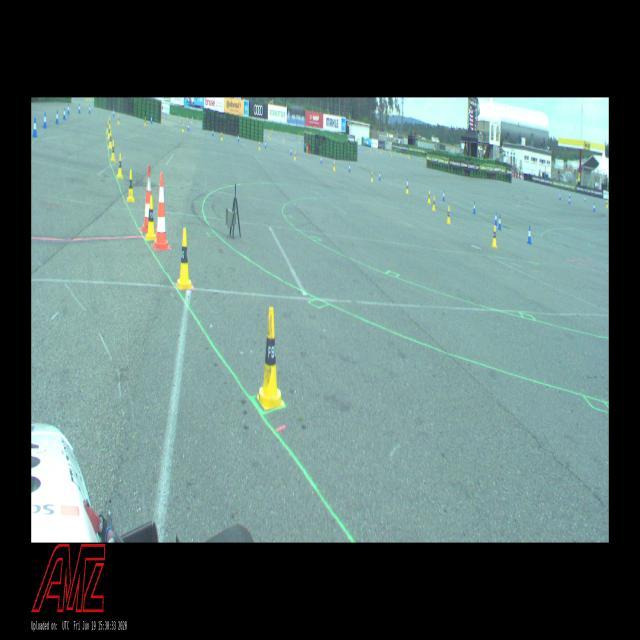blue_cone: (527, 226, 532, 244), (33, 118, 37, 137), (43, 112, 47, 127), (472, 201, 476, 214), (498, 214, 501, 230), (56, 111, 59, 123), (494, 212, 497, 224), (63, 107, 65, 119), (442, 190, 444, 201), (68, 104, 70, 114), (78, 104, 80, 113), (88, 105, 90, 114), (406, 179, 408, 188), (593, 203, 595, 211), (212, 128, 214, 136), (568, 196, 570, 204), (559, 192, 561, 200), (290, 148, 292, 155), (320, 156, 322, 163), (113, 109, 115, 116), (569, 192, 571, 198), (349, 163, 350, 172), (379, 172, 380, 180), (188, 123, 189, 130), (265, 141, 266, 148), (151, 116, 152, 123), (238, 134, 239, 141), (585, 196, 586, 202), (181, 117, 182, 121), (194, 119, 195, 122), (193, 117, 193, 120)
large_orange_cone: (154, 172, 170, 250), (142, 166, 155, 232), (512, 169, 514, 177), (520, 171, 522, 179), (518, 171, 519, 179)
orange_cone: (188, 118, 188, 122)
yellow_cone: (257, 307, 284, 410), (176, 228, 193, 290), (146, 196, 156, 240), (127, 170, 134, 202), (117, 153, 123, 177), (492, 226, 497, 247), (111, 140, 115, 160), (432, 196, 436, 210), (447, 206, 450, 223), (109, 132, 112, 148), (107, 125, 110, 138), (428, 190, 430, 202), (106, 121, 108, 133), (108, 117, 110, 129), (371, 171, 373, 181), (406, 183, 408, 193), (118, 115, 120, 124), (144, 117, 146, 126), (221, 132, 223, 140), (334, 162, 336, 170), (294, 152, 296, 160), (182, 124, 184, 131), (259, 142, 260, 150), (606, 200, 607, 207), (187, 115, 188, 118), (179, 119, 180, 122), (192, 119, 192, 122), (198, 117, 198, 120)
